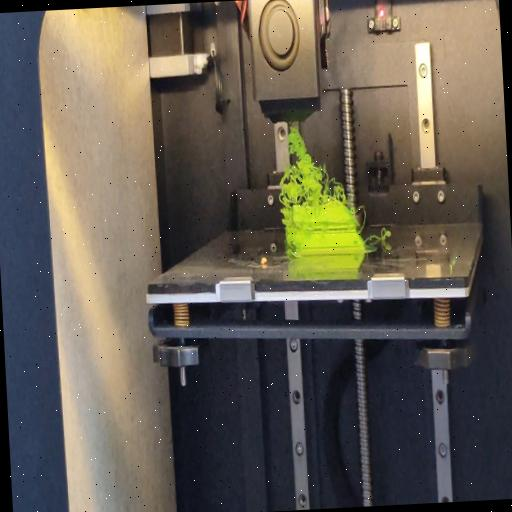spaghetti: (276, 120, 349, 208), (278, 208, 296, 258), (366, 227, 394, 247), (354, 205, 366, 231)
